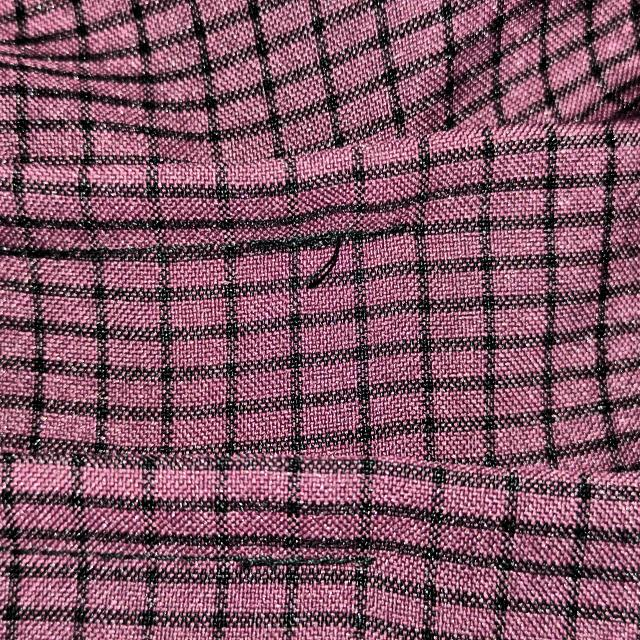Stitch: (267, 221, 361, 334)
